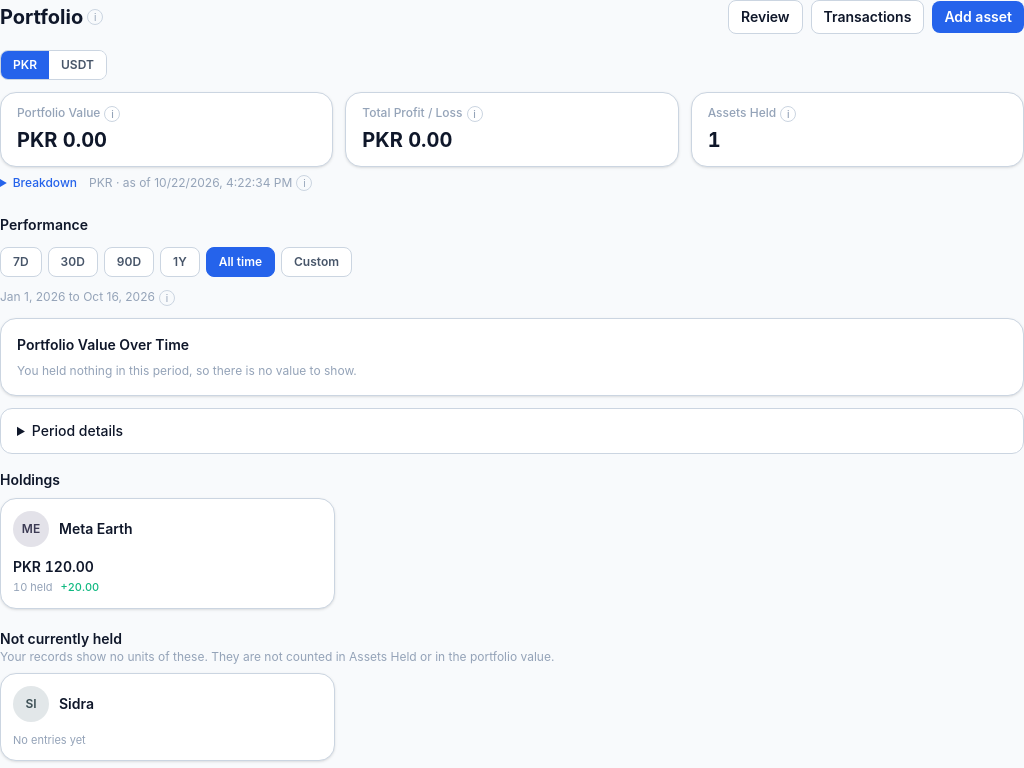
Test case: Price used: RupChain price or the price I got › an opening holding never has a price basis
Click the button "ME Meta Earth PKR 120.00 10 held +20.00".
click(31, 529)  # box x1=0 y1=498 x2=335 y2=609
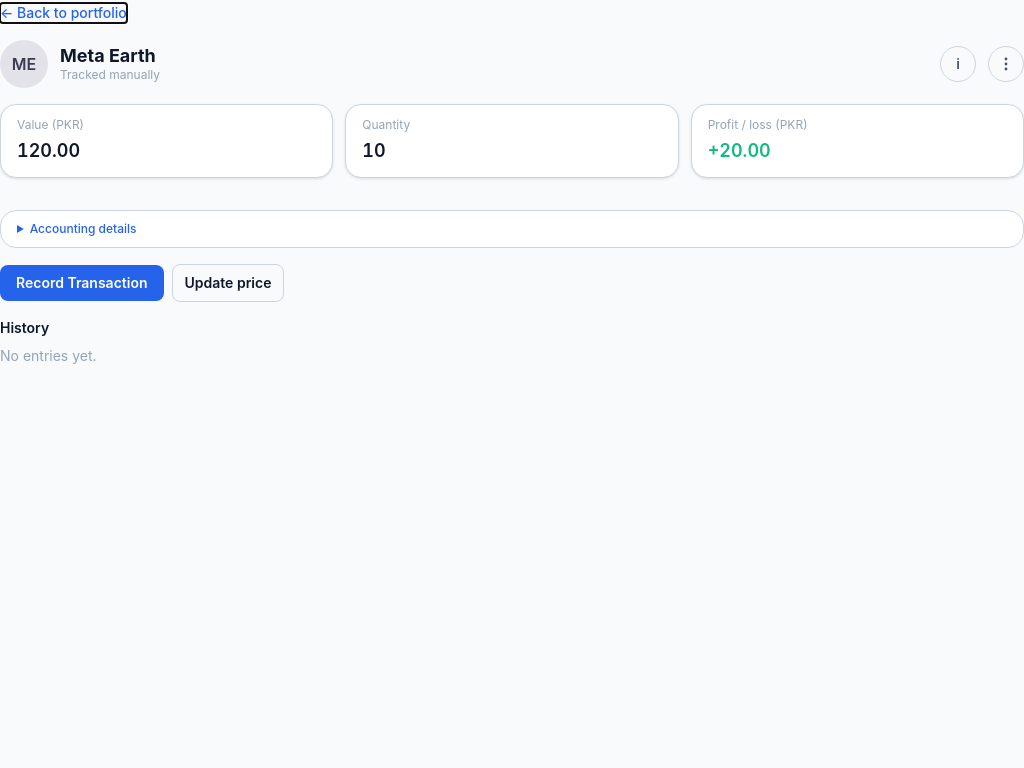
Click the button named "More actions".
click(1006, 64)  # box x1=988 y1=46 x2=1023 y2=82
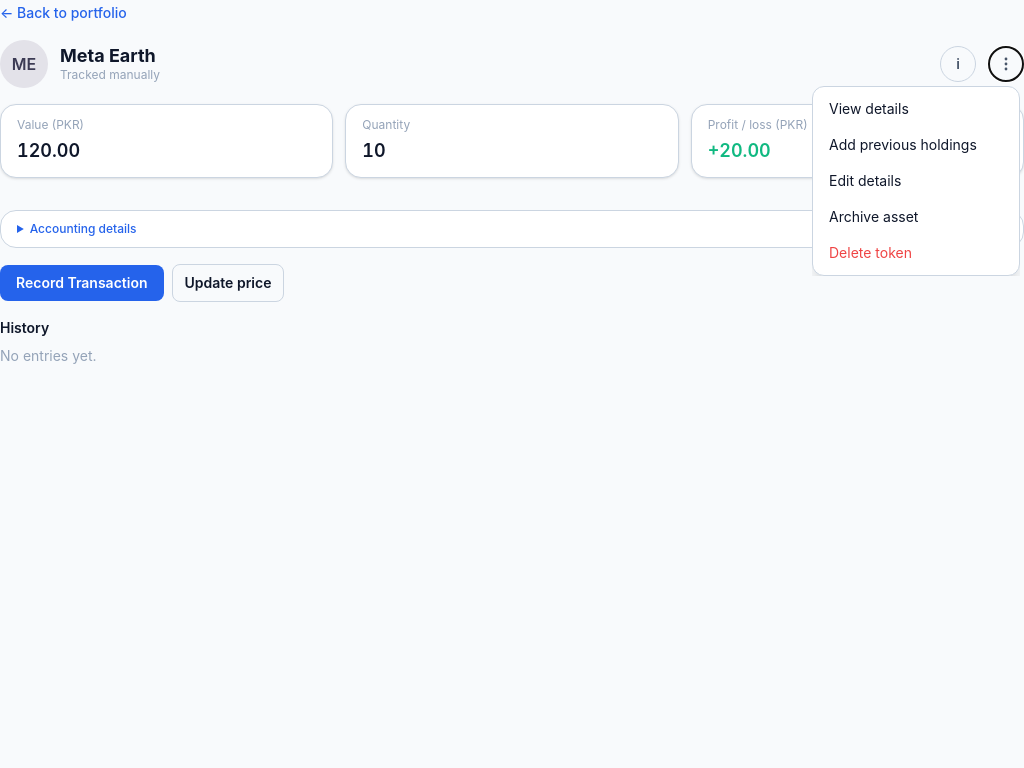
Click the menu item "Add previous holdings".
click(916, 145)  # box x1=813 y1=127 x2=1019 y2=163
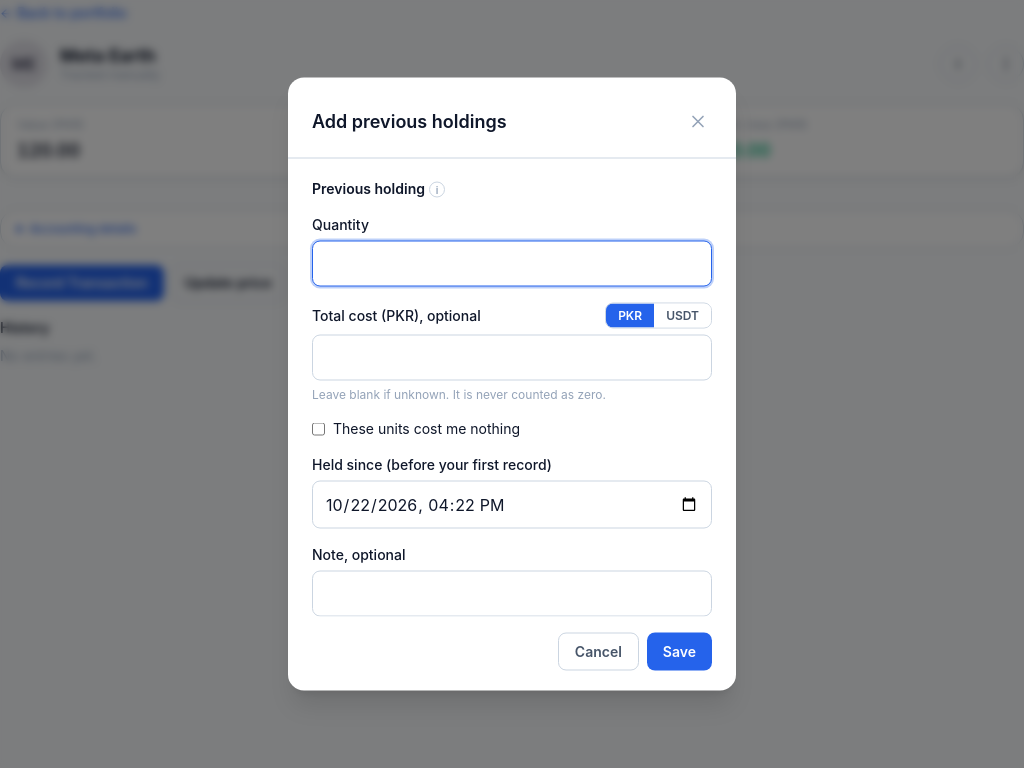
Expected: the dialog "Add previous holdings" is shown, x1=288 y1=78 x2=736 y2=690
